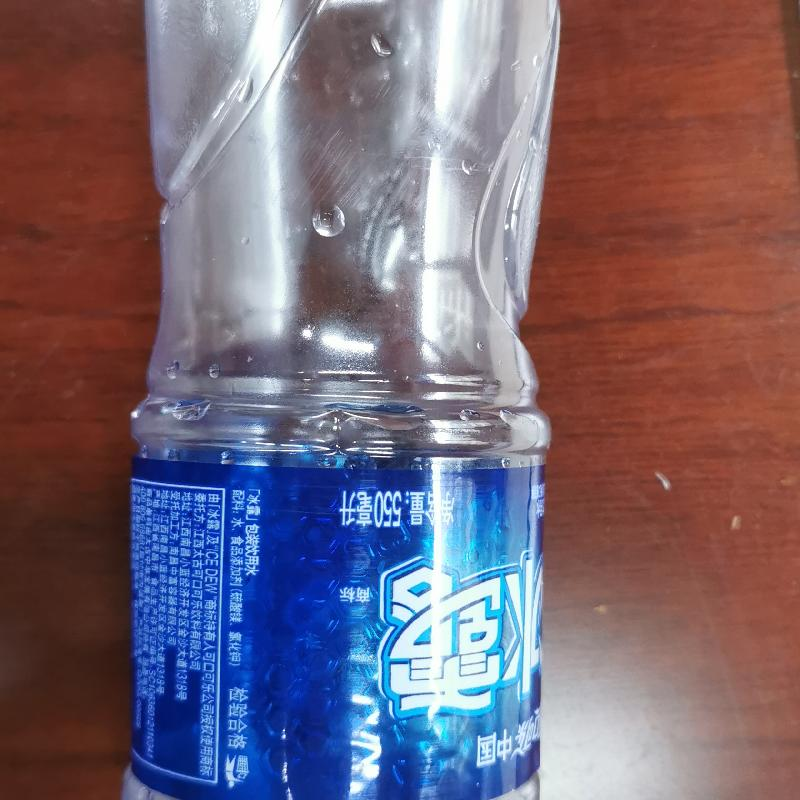bottles: (114, 2, 562, 799)
